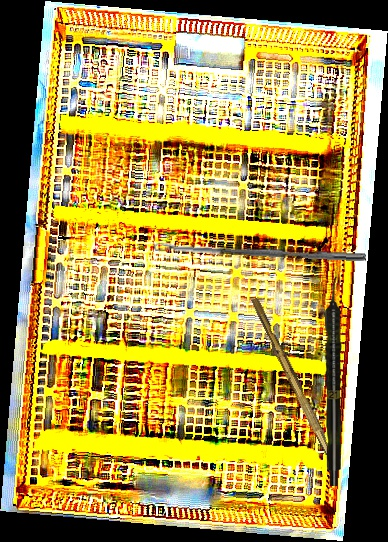Handpiece: (325, 277, 343, 486)
Scalpel Handle: (247, 296, 337, 456)
Surgical Spoon: (153, 241, 367, 262)
